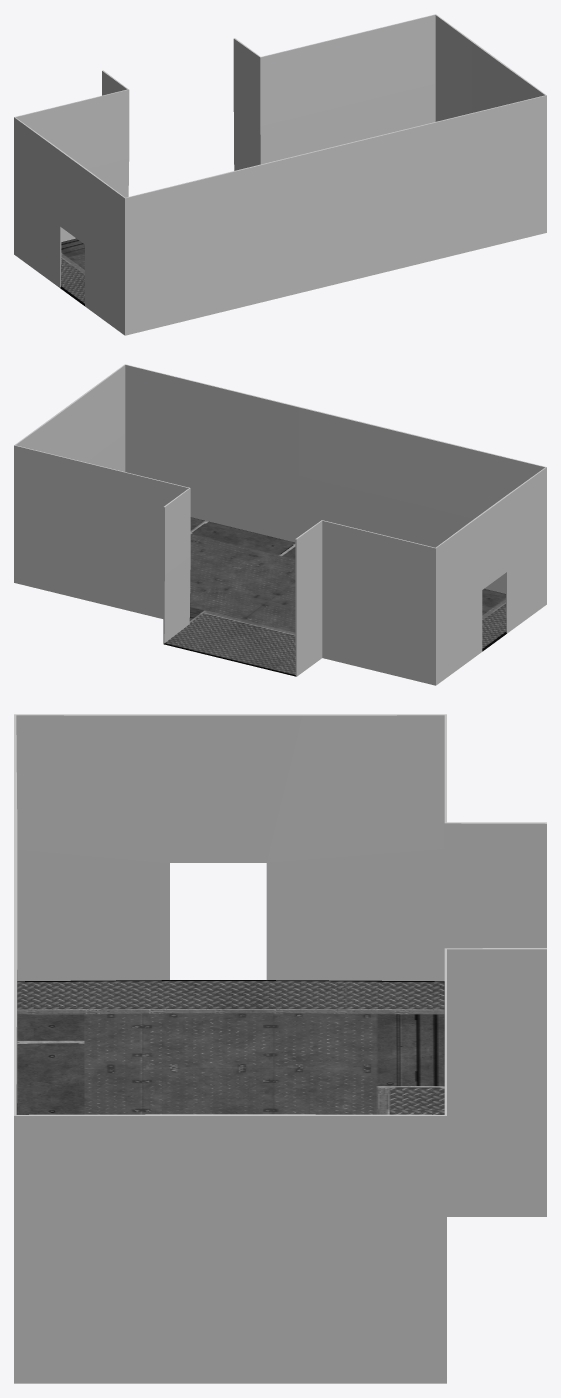
File: arsenal_room.fbx
3 renders of one model, top to bottom at view 1: azimuth 30°, elevation 25°; view 2: azimuth 150°, elevation 25°; view 3: azimuth 270°, elevation 25°, orthographic. The views are drawn at different scales.
Visible parts, largest first — view 1: Cube.002; view 2: Cube.002; view 3: Cube.002.
Part boxes in pixels (box(x1,y1,x2,y2)): Cube.002: box(14, 14, 546, 335); Cube.002: box(14, 364, 546, 685); Cube.002: box(14, 714, 546, 1383).
Size of the model in its own units: 1157 by 360 by 649.
